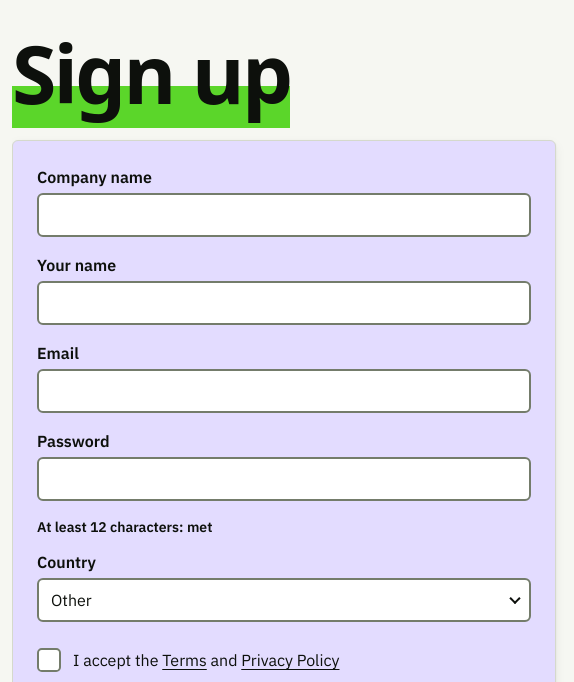
it: submitting › keeps what was typed after a refusal
Type "Fake Test Ltd" into the field labelled "Company name" at (284, 215), box left=37, top=193, right=531, bottom=237
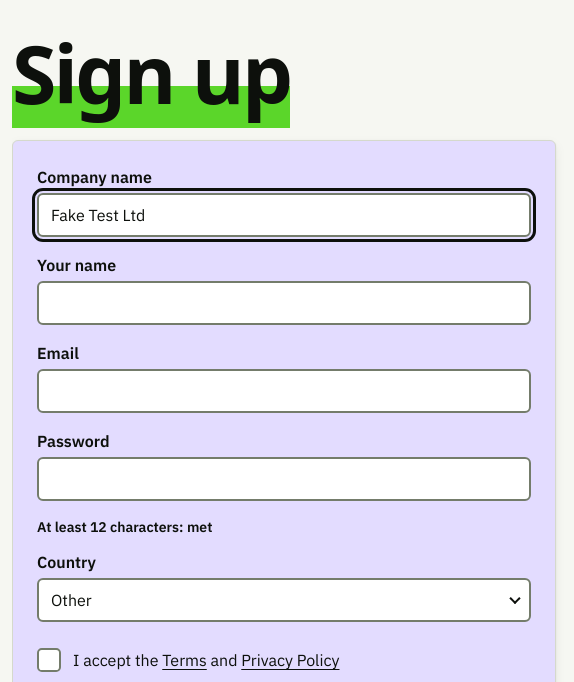
Type "Fake Owner" into the field labelled "Your name" at (284, 303), box left=37, top=281, right=531, bottom=325
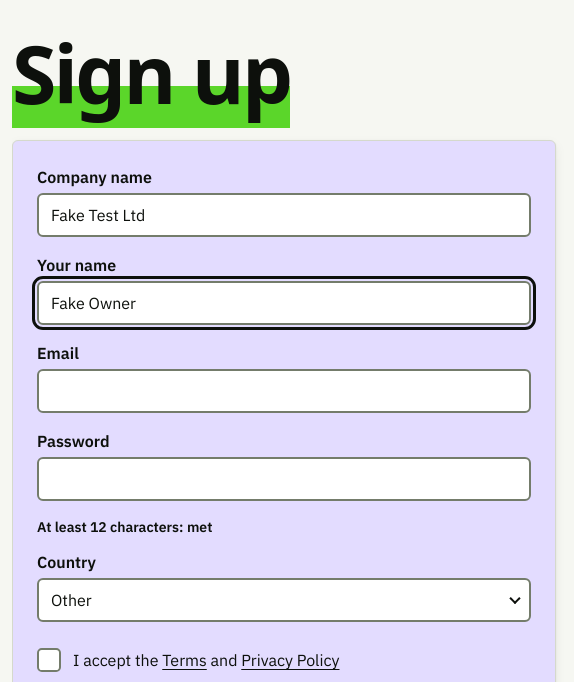
Type "owner@example.test" into the field labelled "Email" at (284, 391), box left=37, top=369, right=531, bottom=413
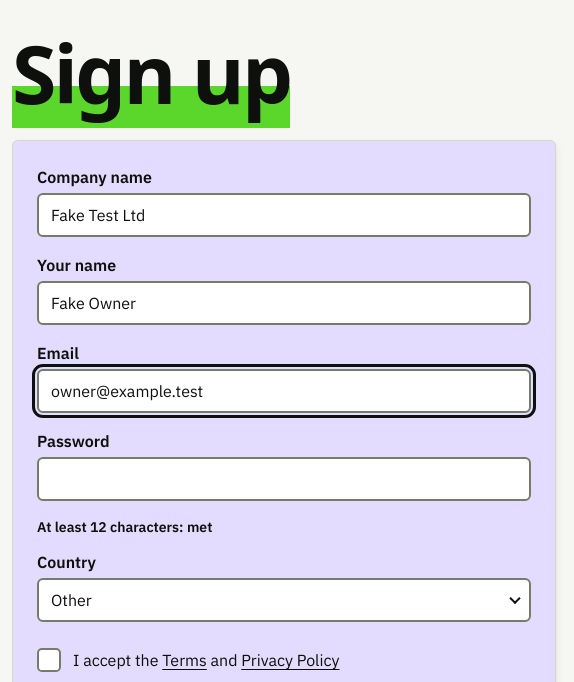
Type "violet-harbour-lantern-92" into the password field labelled "Password" at (284, 479), box left=37, top=457, right=531, bottom=501
(page scrolled)
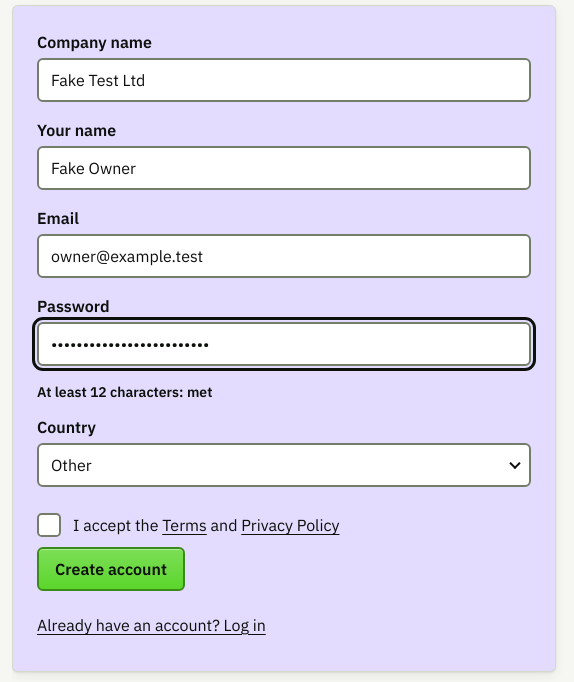
Click the button "Create account" at (111, 569), box left=37, top=547, right=185, bottom=591
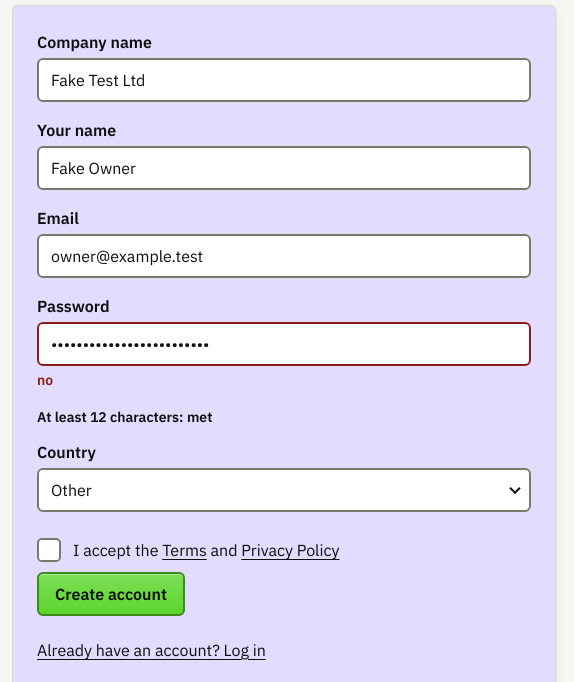
Check: the text "no" is shown, box left=36, top=370, right=73, bottom=389
